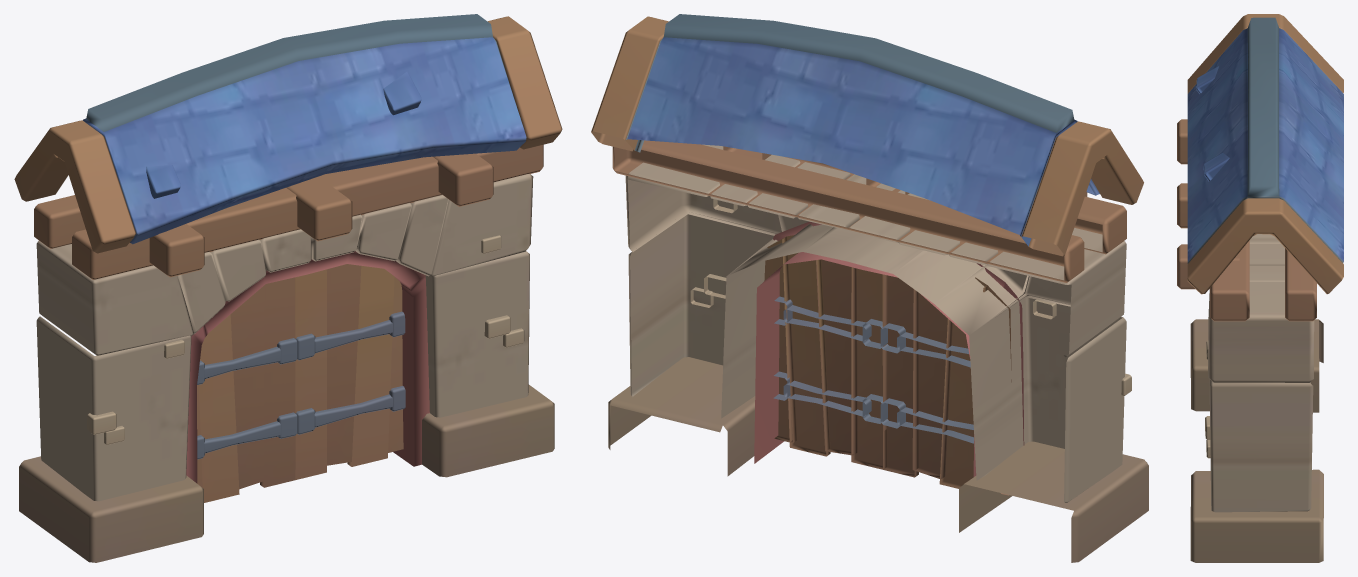
Rendered from Gate.glb.
3 renders of one model, left to right at view 1: azimuth 30°, elevation 25°; view 2: azimuth 150°, elevation 25°; view 3: azimuth 270°, elevation 25°, orthographic. The views are drawn at different scales.
Visible parts, largest first — view 1: ct_town_gate; view 2: ct_town_gate; view 3: ct_town_gate.
Part boxes in pixels (x1=…): ct_town_gate: x1=14, y1=14, x2=562, y2=562; ct_town_gate: x1=591, y1=14, x2=1148, y2=562; ct_town_gate: x1=1177, y1=14, x2=1343, y2=562.
Size of the model in its own units: 6.13 by 5.39 by 2.12.
Materials: 3 (3 with a texture image).
